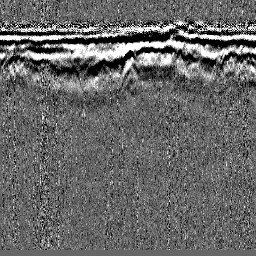cavity: (123, 41, 134, 65)
